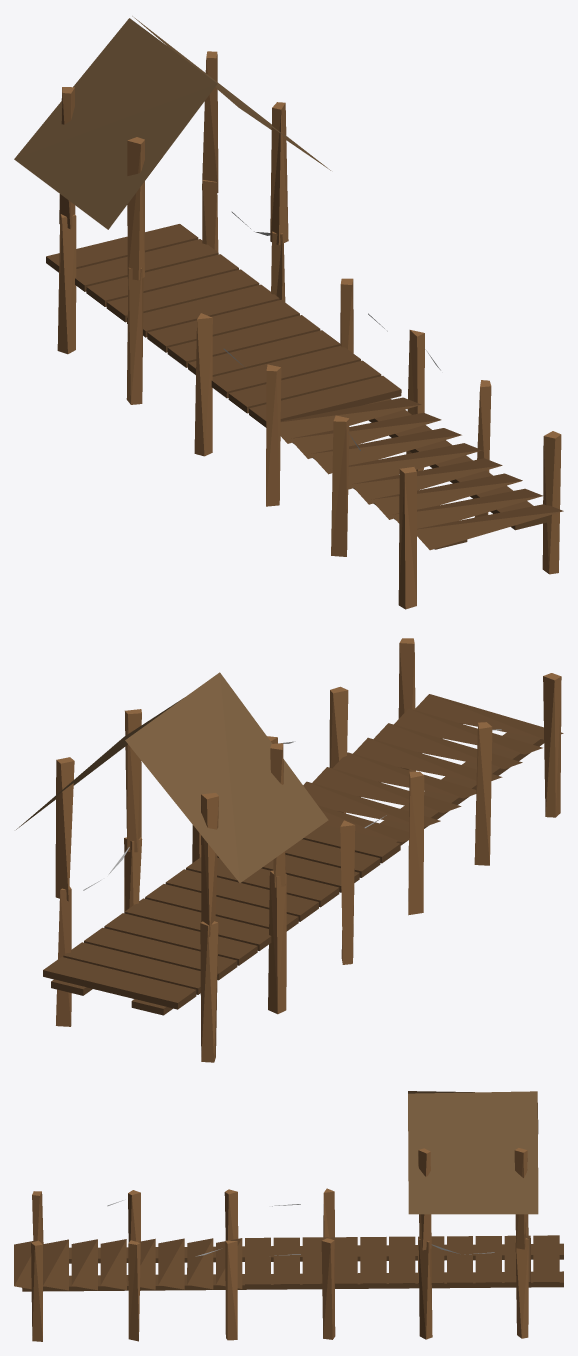
The model's file is pier.zfix-v1.lod2.glb.
3 views of the same model, one above another, from view 1: azimuth 30°, elevation 25°; view 2: azimuth 150°, elevation 25°; view 3: azimuth 270°, elevation 25° (orthographic). The views are drawn at different scales.
Visible parts, largest first — view 1: Cube.001_Baked_Cube.001_Baked_0; view 2: Cube.001_Baked_Cube.001_Baked_0; view 3: Cube.001_Baked_Cube.001_Baked_0.
Part boxes in pixels (x1=…): Cube.001_Baked_Cube.001_Baked_0: x1=14, y1=16, x2=563, y2=609; Cube.001_Baked_Cube.001_Baked_0: x1=16, y1=638, x2=563, y2=1062; Cube.001_Baked_Cube.001_Baked_0: x1=14, y1=1091, x2=563, y2=1341.
Bounding box in the file's own units: 8.15 × 10.81 × 24.
